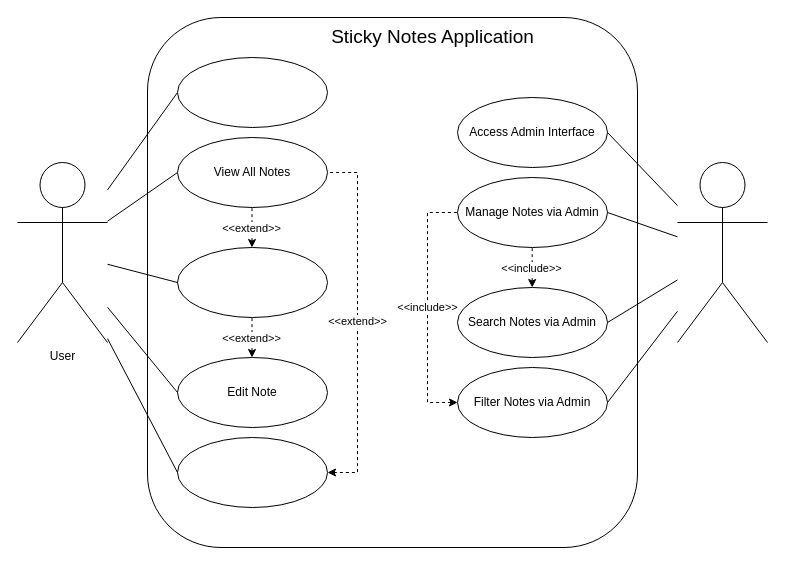
Some shapes in this 785 by 565 pixel diagram are drawn without their labels. The centre of each missing label's shape, as x and y in pixels:
Admin: point 722,252
Create New Note: point 252,92
Delete Note: point 252,472
View Note Details: point 252,282
